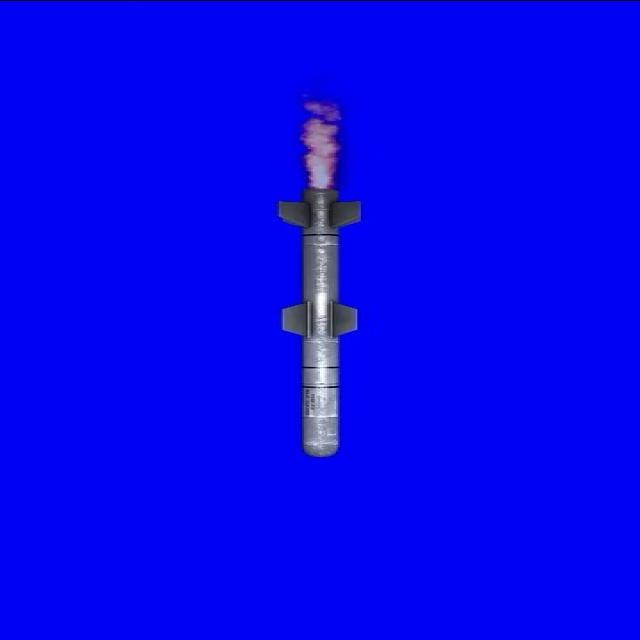Missile: (260, 186, 372, 468)
